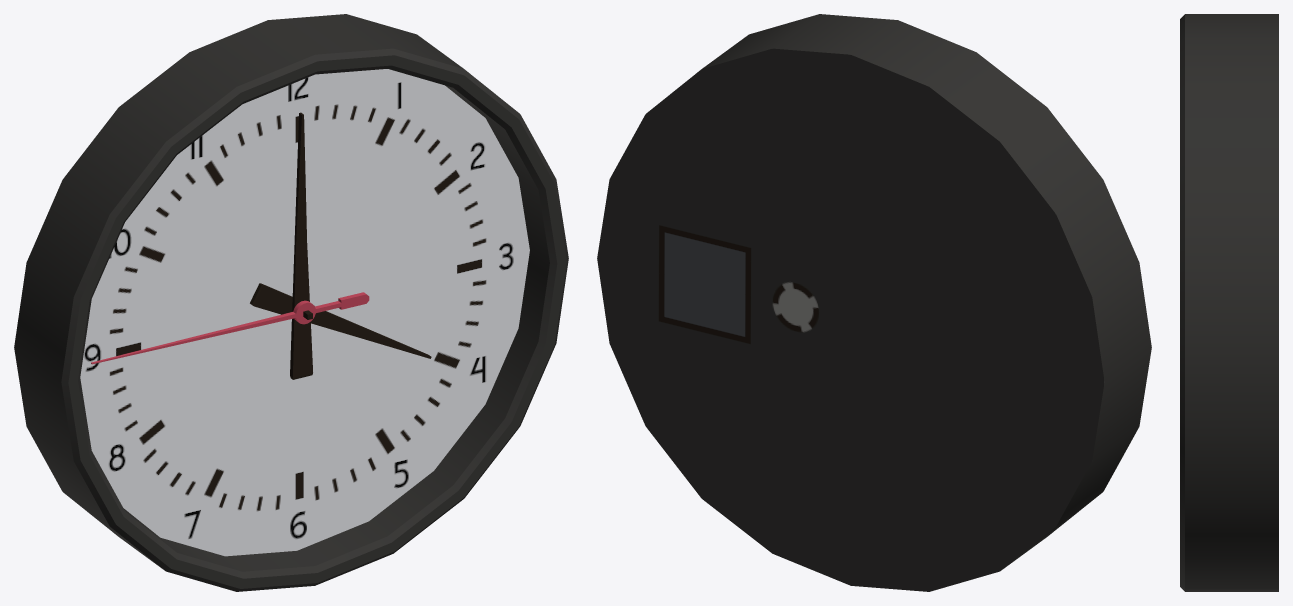
Rendered from Analog Clock 1.obj.
3 views of the same model, side by side, from view 1: azimuth 30°, elevation 25°; view 2: azimuth 150°, elevation 25°; view 3: azimuth 270°, elevation 25° (orthographic).
Visible parts, largest first — view 1: Analog_Clock_1, Hour_hand, Minute_hand, Second_hand; view 2: Analog_Clock_1; view 3: Analog_Clock_1.
Boxes of the visible parts, <box> form: Analog_Clock_1: <box>14,14,568,591</box>; Hour_hand: <box>290,112,312,379</box>; Minute_hand: <box>250,283,431,358</box>; Second_hand: <box>91,292,369,364</box>; Analog_Clock_1: <box>597,14,1151,591</box>; Analog_Clock_1: <box>1180,14,1278,591</box>.
Size of the model in its own units: 1000 by 1000 by 170.
Materials: 1 (1 with a texture image).
